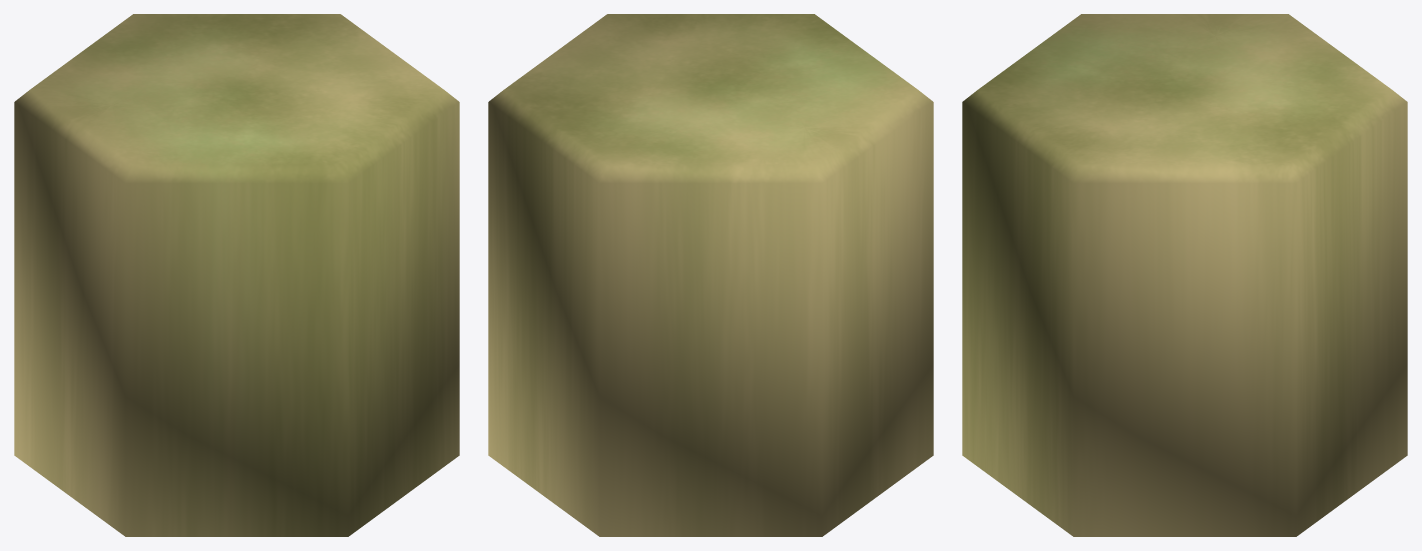
File: Roca2.FBX
3 views of the same model, side by side, from view 1: azimuth 30°, elevation 25°; view 2: azimuth 150°, elevation 25°; view 3: azimuth 270°, elevation 25° (orthographic).
Parts seen in each view (by area): view 1: Cylinder002; view 2: Cylinder002; view 3: Cylinder002.
Part boxes in pixels (left/top/right/bottom): Cylinder002: left=14, top=14, right=459, bottom=536; Cylinder002: left=488, top=14, right=933, bottom=536; Cylinder002: left=962, top=14, right=1407, bottom=536.
Size of the model in its own units: 34.09 by 35.67 by 39.37.
